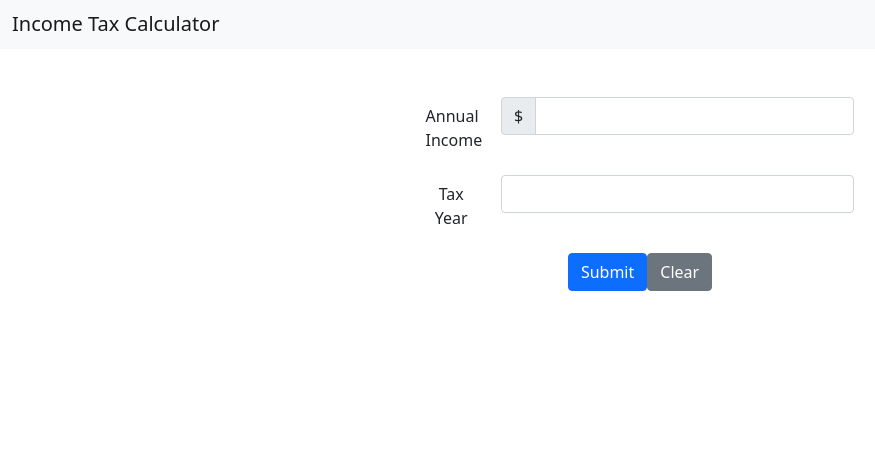
Testing Dashboard › Invalid input scenarios › Incorrect income field and empty tax field
The image size is (875, 456).
Type "20abc" into the field with id "income" at (695, 116), box x1=535 y1=97 x2=854 y2=135
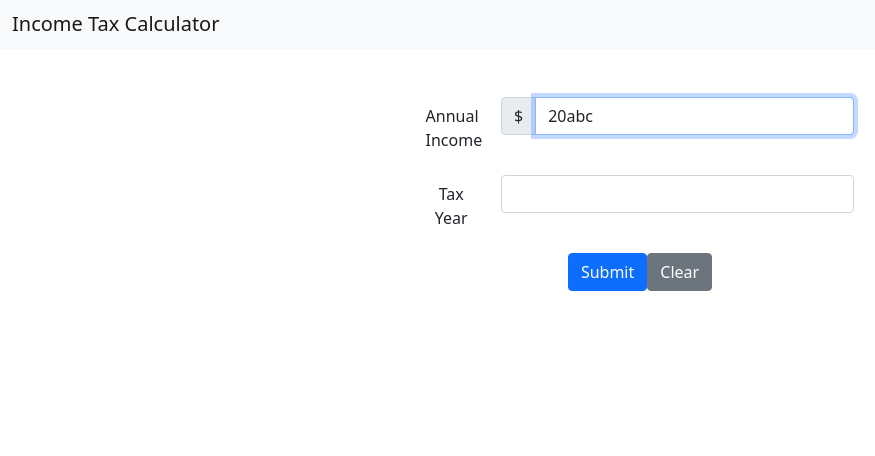
Click the button with id "submit" at (608, 272), box x1=568 y1=253 x2=647 y2=291
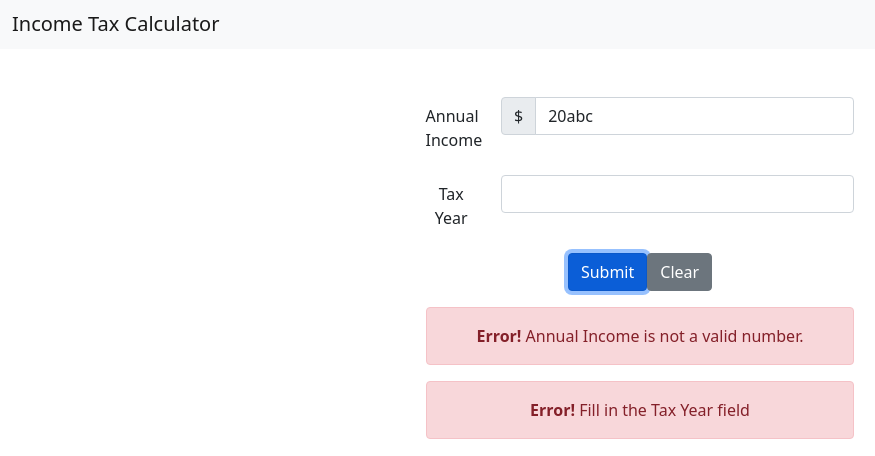
Now the text "Annual Income is not a valid number" is shown, box x1=526 y1=325 x2=804 y2=347
Now the text "Fill in the Tax Year field" is shown, box x1=579 y1=399 x2=750 y2=421
